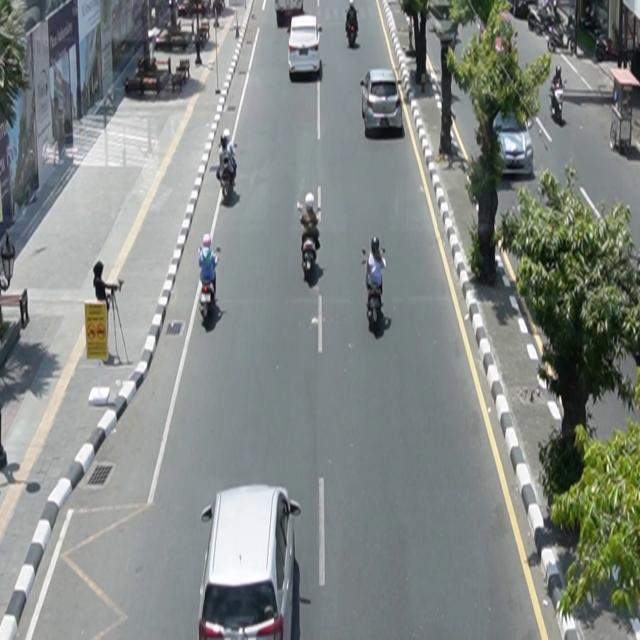car: (199, 484, 302, 640), (492, 108, 535, 178), (361, 69, 404, 136), (288, 15, 323, 78)
